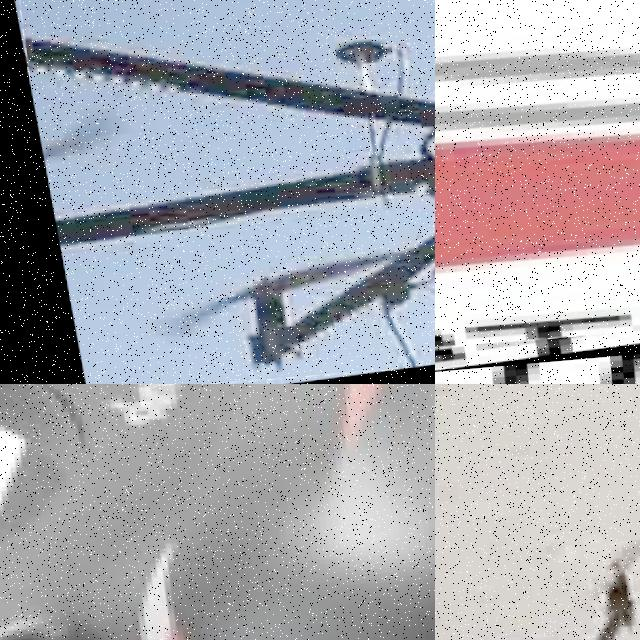drone: (0, 0, 435, 384), (0, 384, 435, 640), (435, 0, 640, 377), (435, 475, 640, 640)
